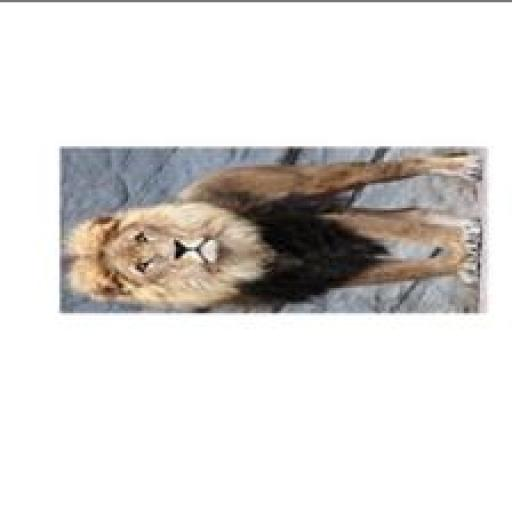lion: (50, 126, 511, 332)
